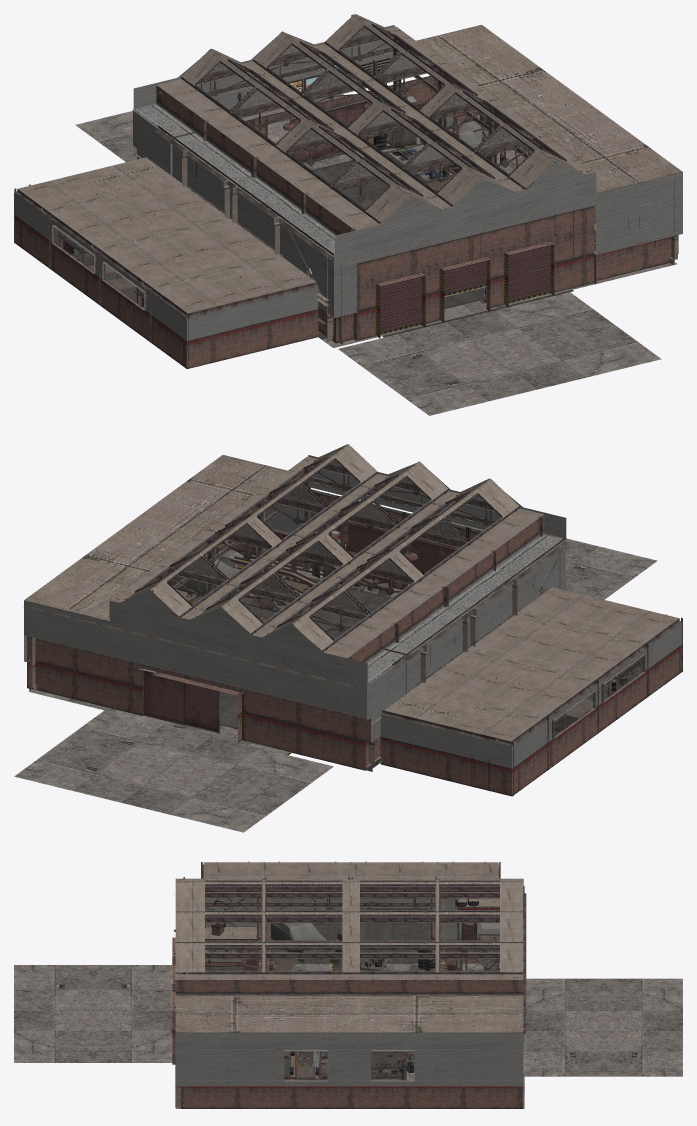
The model's file is garage.glb.
3 renders of one model, top to bottom at view 1: azimuth 30°, elevation 25°; view 2: azimuth 150°, elevation 25°; view 3: azimuth 270°, elevation 25°, orthographic. The views are drawn at different scales.
Visible parts, largest first — view 1: Garage_Building_Pillars_Conc_Combined_12626, Garage_Building_Brick_Wall_01_12690, Garage_Building_Garage_Props_01_Unlit_12674.001, Garage_Building_Conc_Floor_01_12680; view 2: Garage_Building_Pillars_Conc_Combined_12626, Garage_Building_Brick_Wall_01_12690, Garage_Building_Garage_Props_01_Unlit_12674.001, Garage_Building_Conc_Floor_01_12680; view 3: Garage_Building_Pillars_Conc_Combined_12626, Garage_Building_Brick_Wall_01_12690, Garage_Building_Garage_Props_01_Unlit_12674.001, Garage_Building_Conc_Floor_01_12680.
Part boxes in pixels (x1=…): Garage_Building_Pillars_Conc_Combined_12626: x1=14, y1=14, x2=682, y2=415; Garage_Building_Brick_Wall_01_12690: x1=14, y1=14, x2=682, y2=368; Garage_Building_Garage_Props_01_Unlit_12674.001: x1=63, y1=80, x2=596, y2=332; Garage_Building_Conc_Floor_01_12680: x1=57, y1=153, x2=595, y2=337; Garage_Building_Pillars_Conc_Combined_12626: x1=14, y1=444, x2=682, y2=832; Garage_Building_Brick_Wall_01_12690: x1=24, y1=444, x2=682, y2=796; Garage_Building_Garage_Props_01_Unlit_12674.001: x1=122, y1=493, x2=635, y2=790; Garage_Building_Conc_Floor_01_12680: x1=193, y1=558, x2=642, y2=727; Garage_Building_Pillars_Conc_Combined_12626: x1=14, y1=861, x2=682, y2=1108; Garage_Building_Brick_Wall_01_12690: x1=172, y1=879, x2=524, y2=1108; Garage_Building_Garage_Props_01_Unlit_12674.001: x1=205, y1=879, x2=523, y2=1080; Garage_Building_Conc_Floor_01_12680: x1=205, y1=923, x2=445, y2=1080.
Size of the model in its own units: 27.97 by 8 by 38.5.
7 materials, 6 textured.
